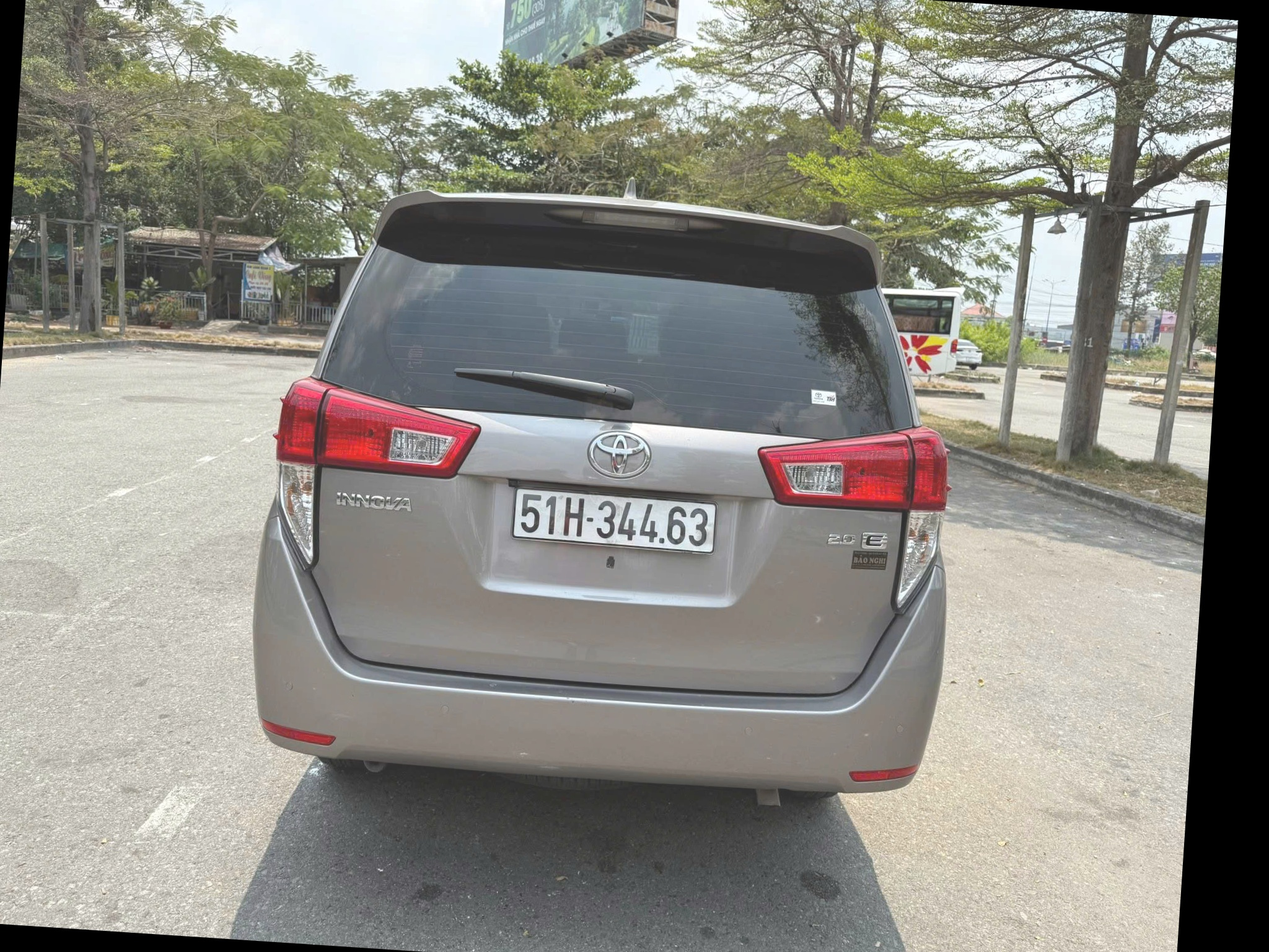Bien-so: (510, 480, 723, 552)
